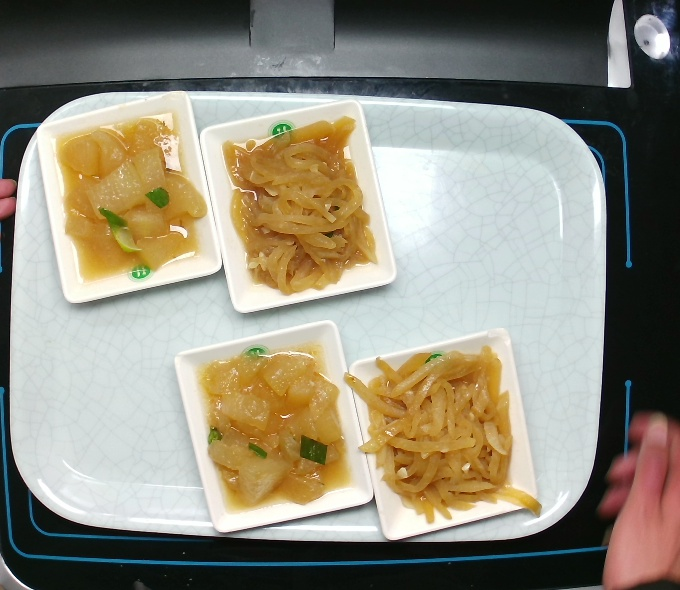wcq-DongGua: (195, 343, 353, 513), (53, 112, 209, 281)
wcq-LuoBoSi: (343, 343, 542, 523), (219, 113, 382, 299)
